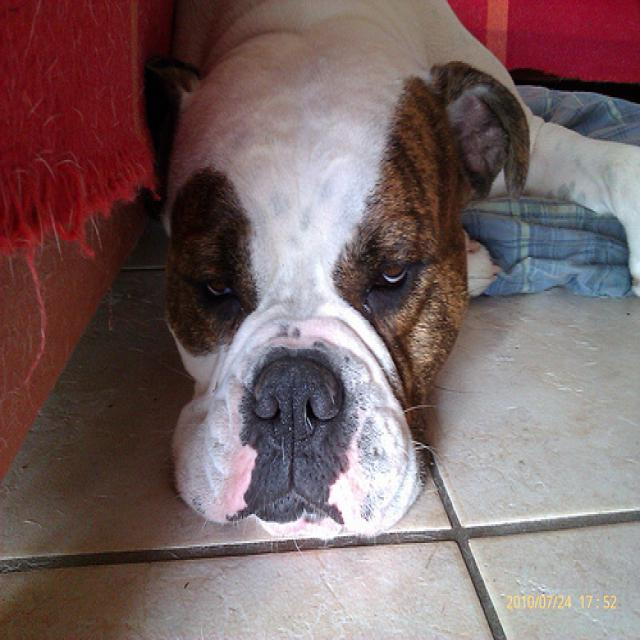dog-american_bulldog: (132, 2, 637, 553)
